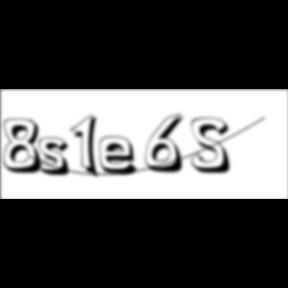1: (70, 114, 104, 182)
6: (146, 112, 190, 176)
8: (3, 117, 48, 176)
S: (191, 117, 237, 176)
e: (99, 135, 145, 178)
s: (39, 137, 78, 179)
